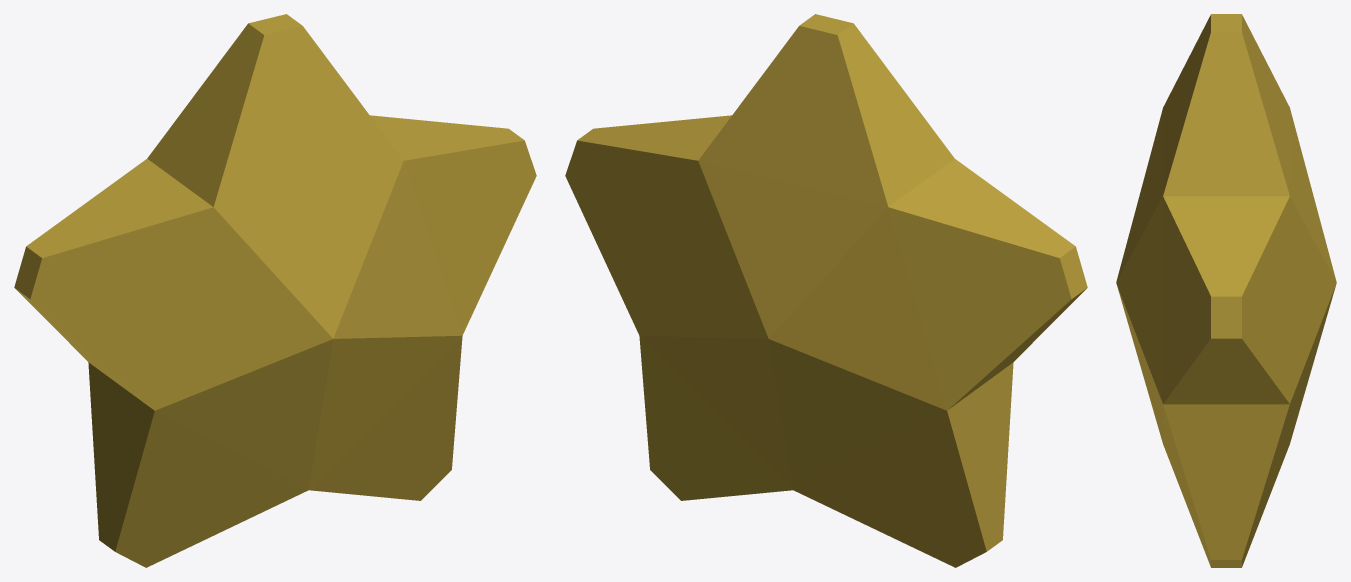
File: Star-transformed.glb
3 views of the same model, side by side, from view 1: azimuth 30°, elevation 25°; view 2: azimuth 150°, elevation 25°; view 3: azimuth 270°, elevation 25° (orthographic). The views are drawn at different scales.
Visible parts, largest first — view 1: Star; view 2: Star; view 3: Star.
Boxes of the visible parts, box(x1,y1,x2,y2) form: Star: box(14, 14, 536, 567); Star: box(565, 14, 1087, 567); Star: box(1116, 14, 1336, 567).
Bounding box in the file's own units: 0.8516 × 0.8099 × 0.3367.
